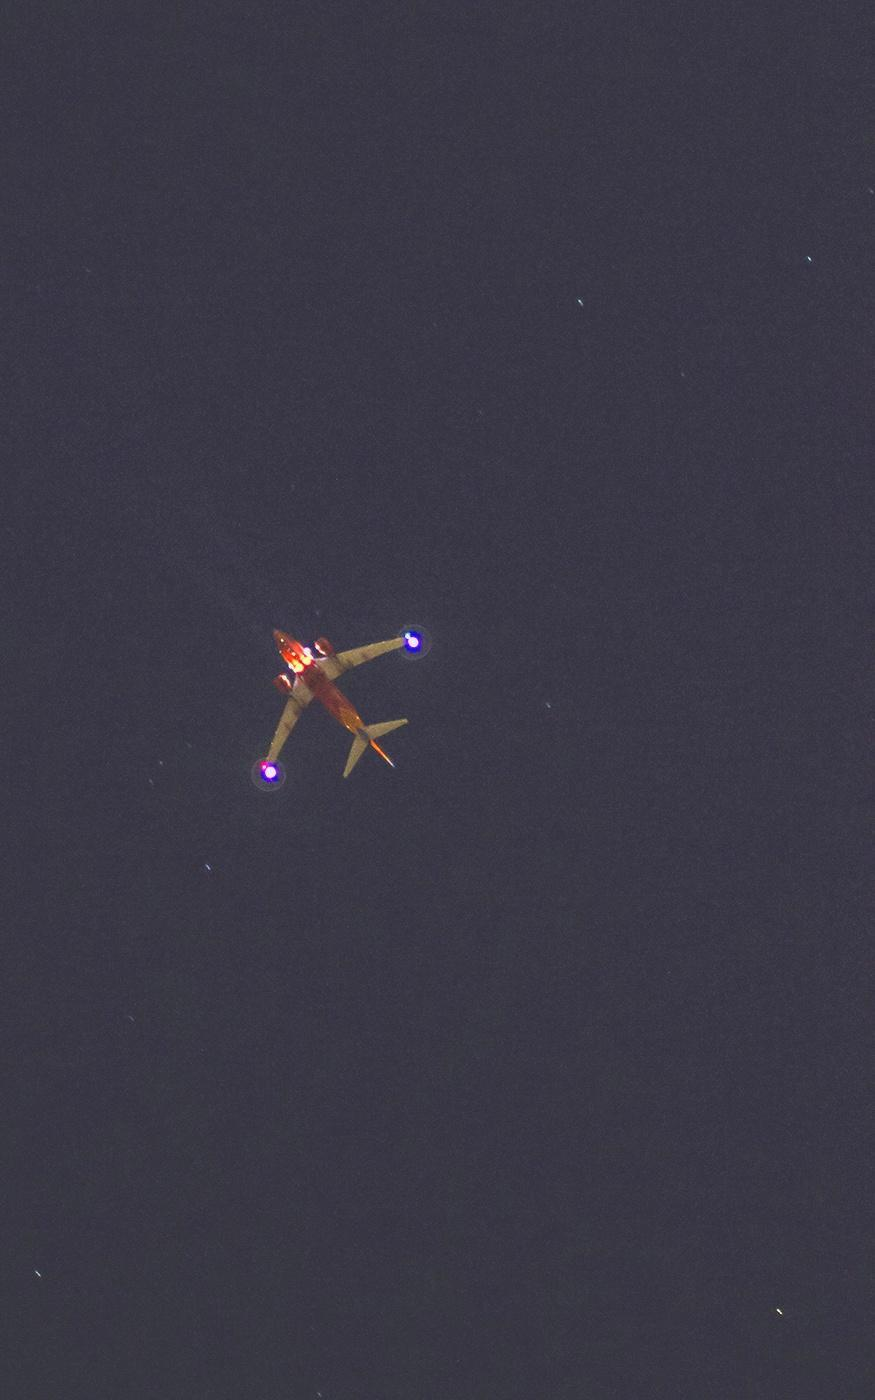Plane: (231, 599, 453, 851)
